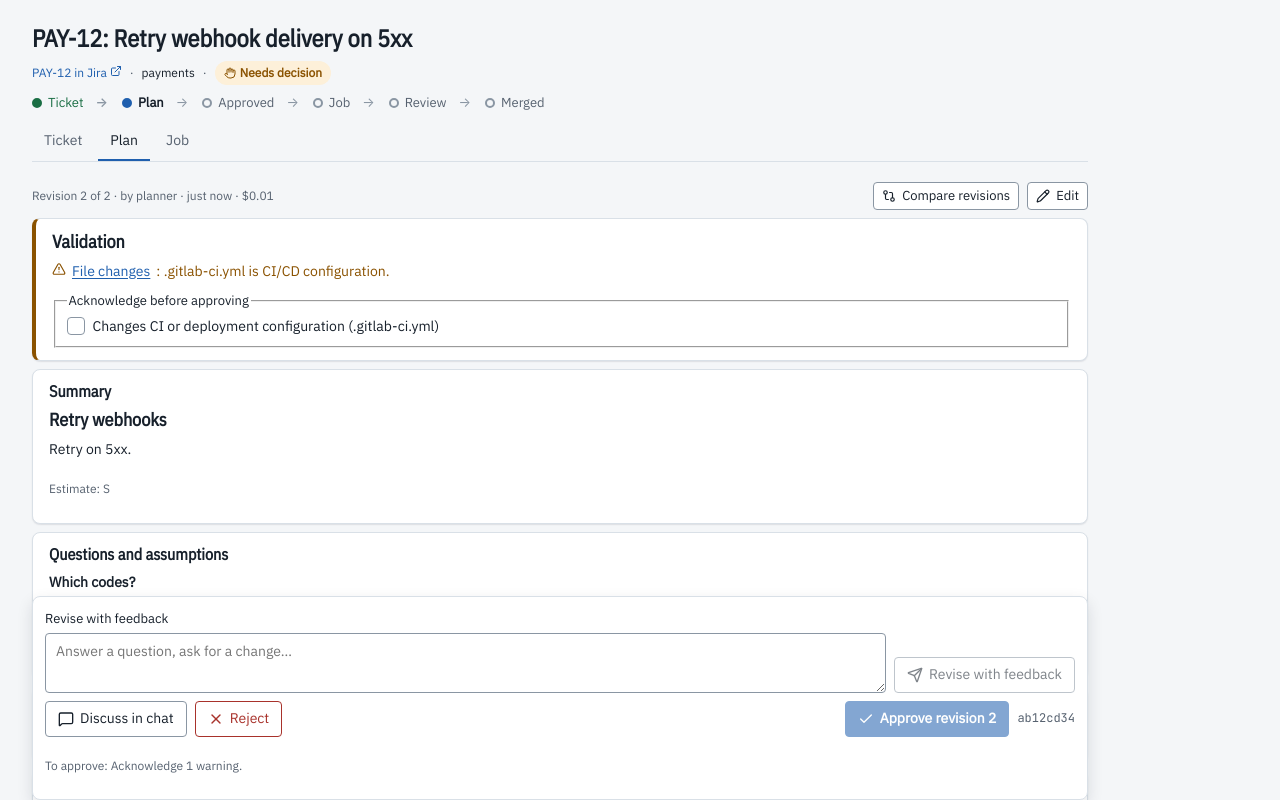
Test: Plan tab › rejects after confirming, with an optional reason
Step 1. Click the button "Reject" → click(238, 718), box [195,700,282,736]
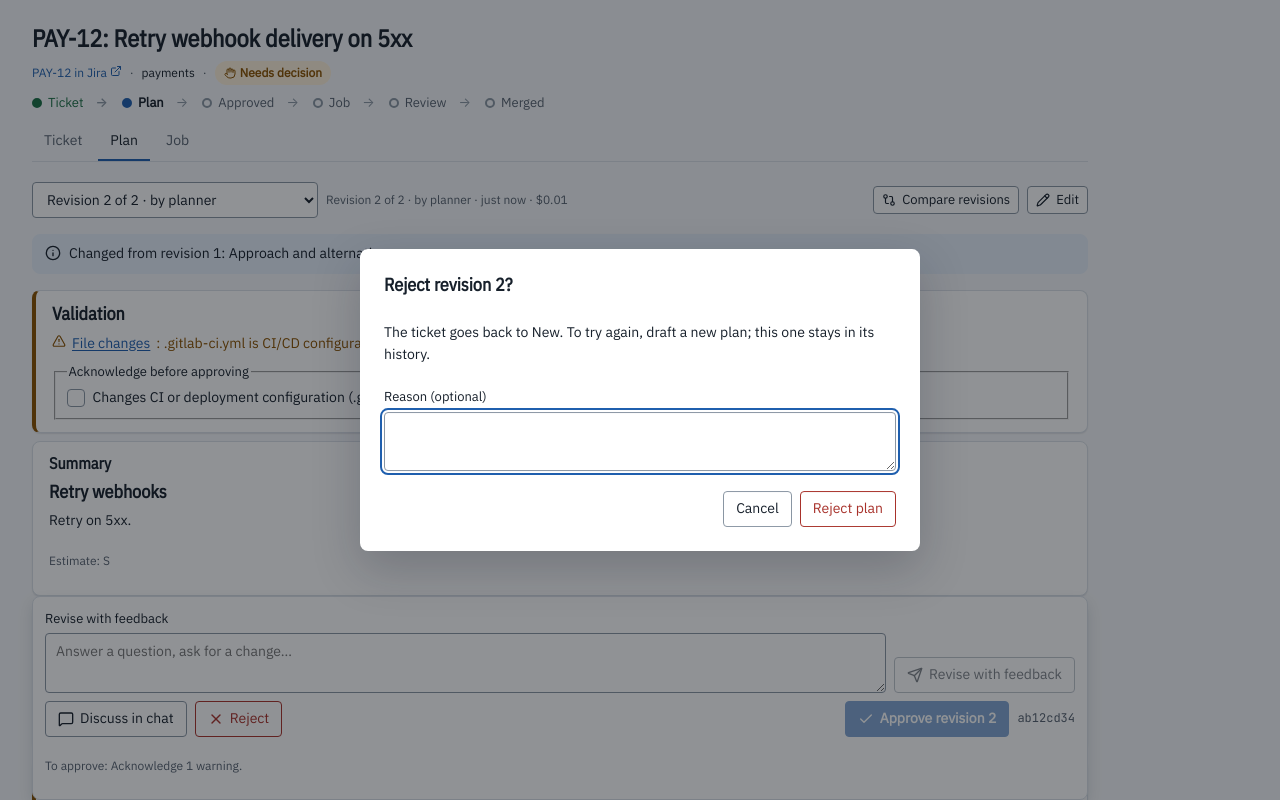
Step 2. Type "Wrong approach" into the text box labelled "Reason (optional)" → (640, 441), box [384,412,896,471]
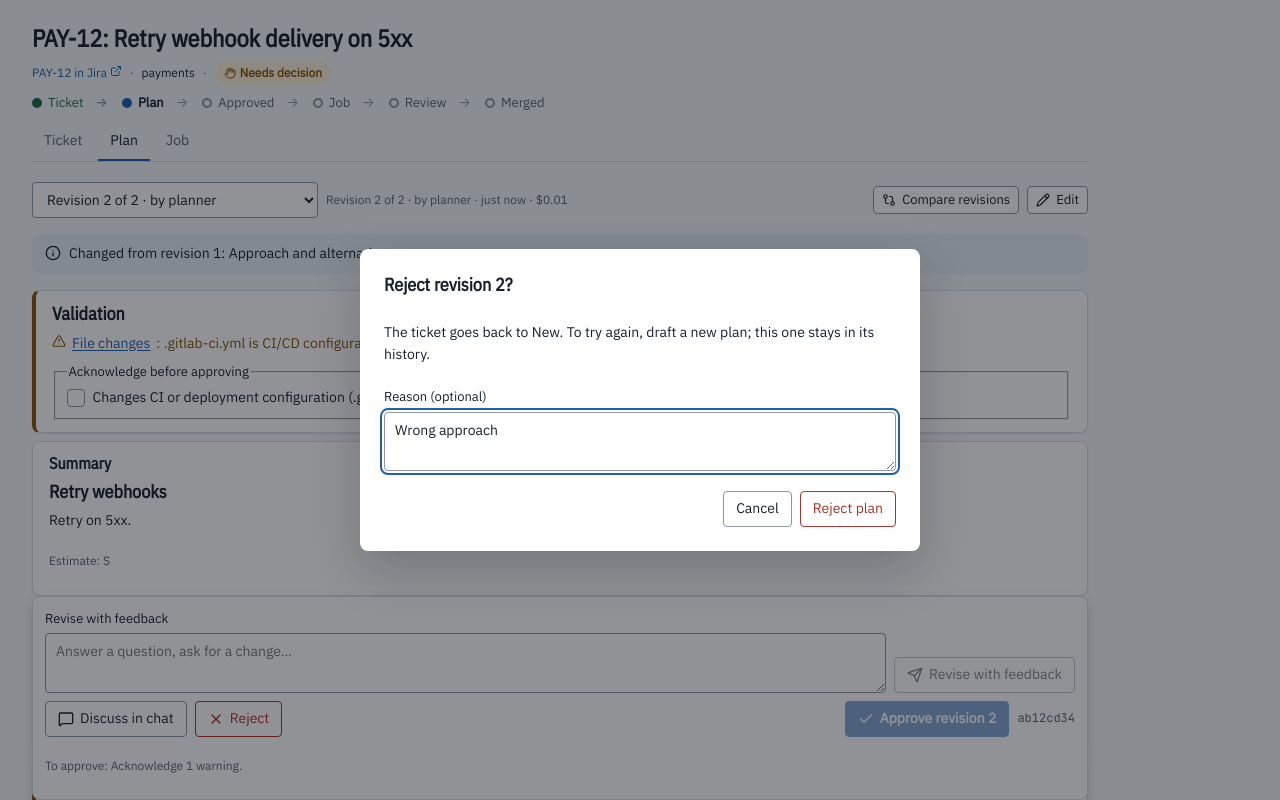
Step 3. Click the button "Reject plan" → click(848, 509), box [800,491,896,527]
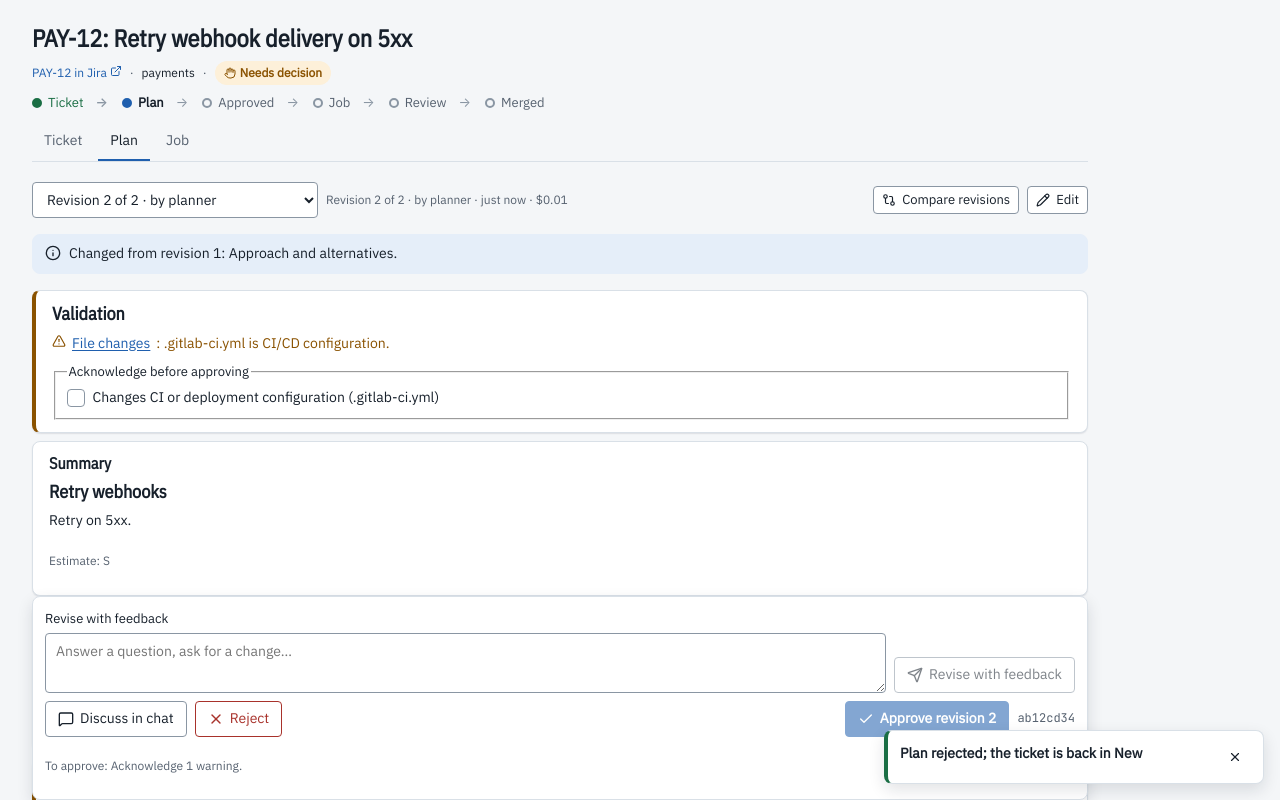
Expected: the text "Plan rejected; the ticket is back in New" is shown, [900,744,1142,762]
